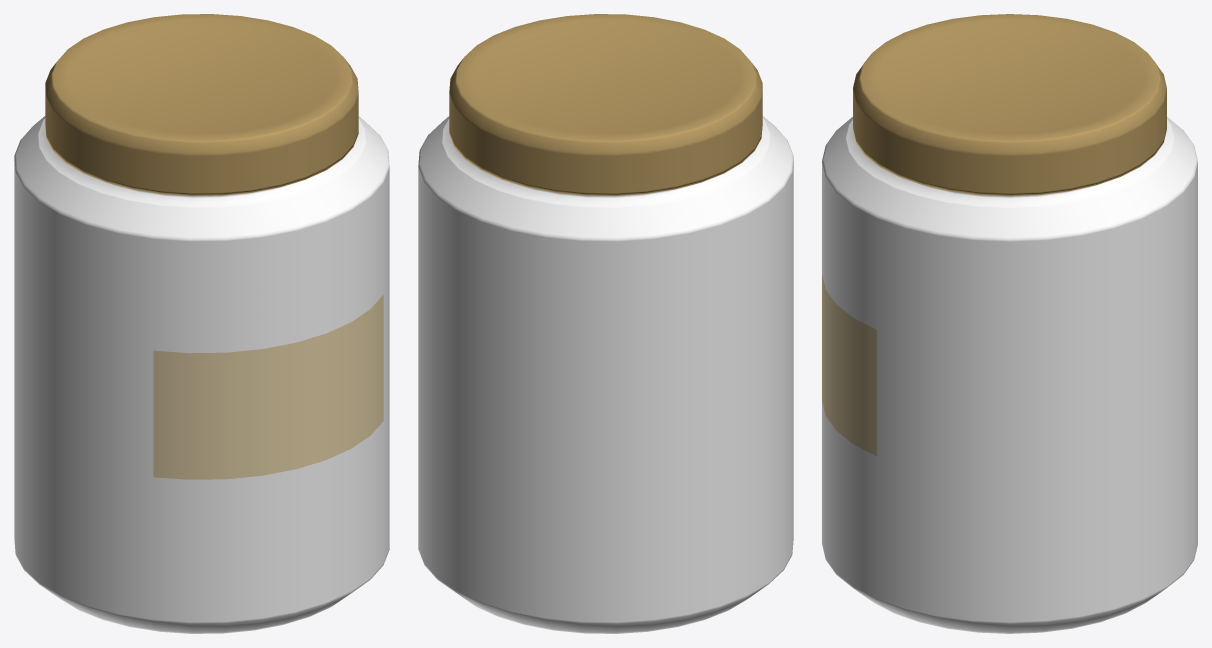
File: selai matcha.fbx
3 renders of one model, left to right at view 1: azimuth 30°, elevation 25°; view 2: azimuth 150°, elevation 25°; view 3: azimuth 270°, elevation 25°, orthographic.
Visible parts, largest first — view 1: Cylinder, Cylinder.001; view 2: Cylinder, Cylinder.001; view 3: Cylinder, Cylinder.001.
Part boxes in pixels (box(x1,y1,x2,y2)): Cylinder: box(14, 116, 389, 633); Cylinder.001: box(45, 14, 358, 195); Cylinder: box(418, 116, 793, 633); Cylinder.001: box(449, 14, 762, 195); Cylinder: box(822, 117, 1197, 633); Cylinder.001: box(853, 14, 1166, 196).
Bounding box in the file's own units: 83.38 × 120 × 83.38.
